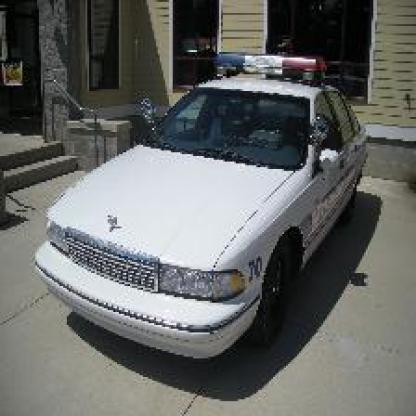emergency: (50, 32, 388, 370)
